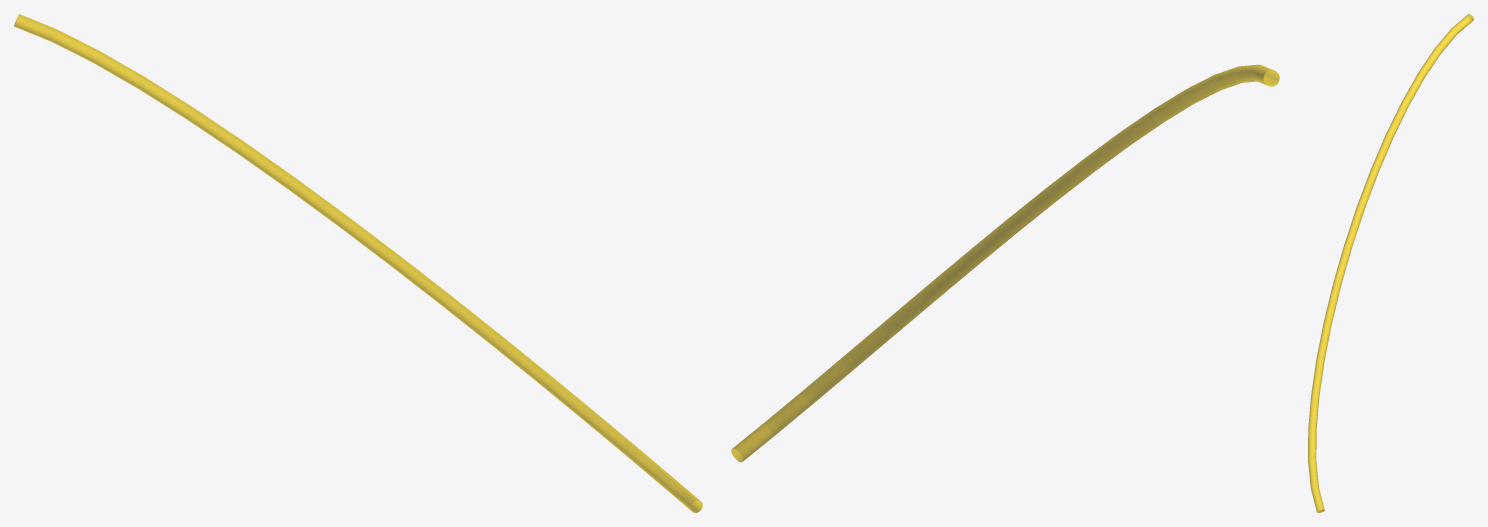
File: Event_84804159_track_36.fbx
3 views of the same model, side by side, from view 1: azimuth 30°, elevation 25°; view 2: azimuth 150°, elevation 25°; view 3: azimuth 270°, elevation 25° (orthographic). The views are drawn at different scales.
Visible parts, largest first — view 1: Model; view 2: Model; view 3: Model.
Boxes of the visible parts, x1=… form: Model: x1=14, y1=14, x2=702, y2=512; Model: x1=731, y1=64, x2=1279, y2=462; Model: x1=1308, y1=14, x2=1473, y2=512.
Size of the model in its own units: 1.91 by 1.75 by 0.7903.
